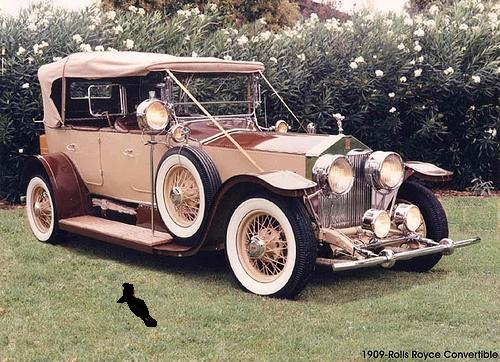tampered: (118, 284, 157, 327)
